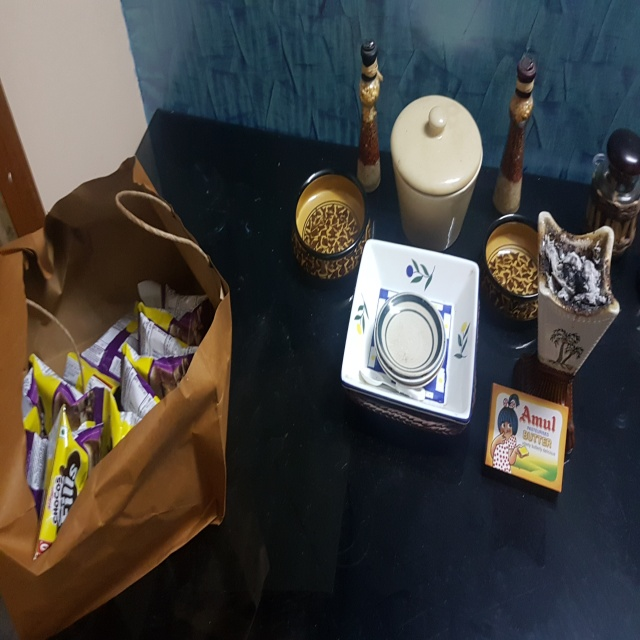butter: (484, 385, 572, 492)
